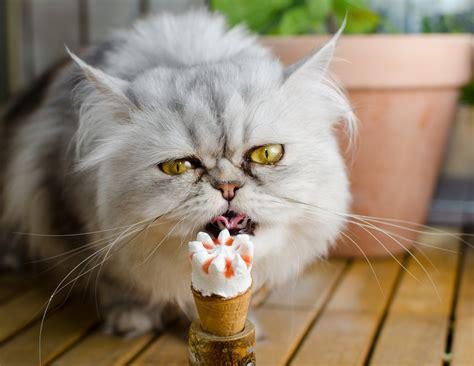cat: (5, 9, 350, 333)
